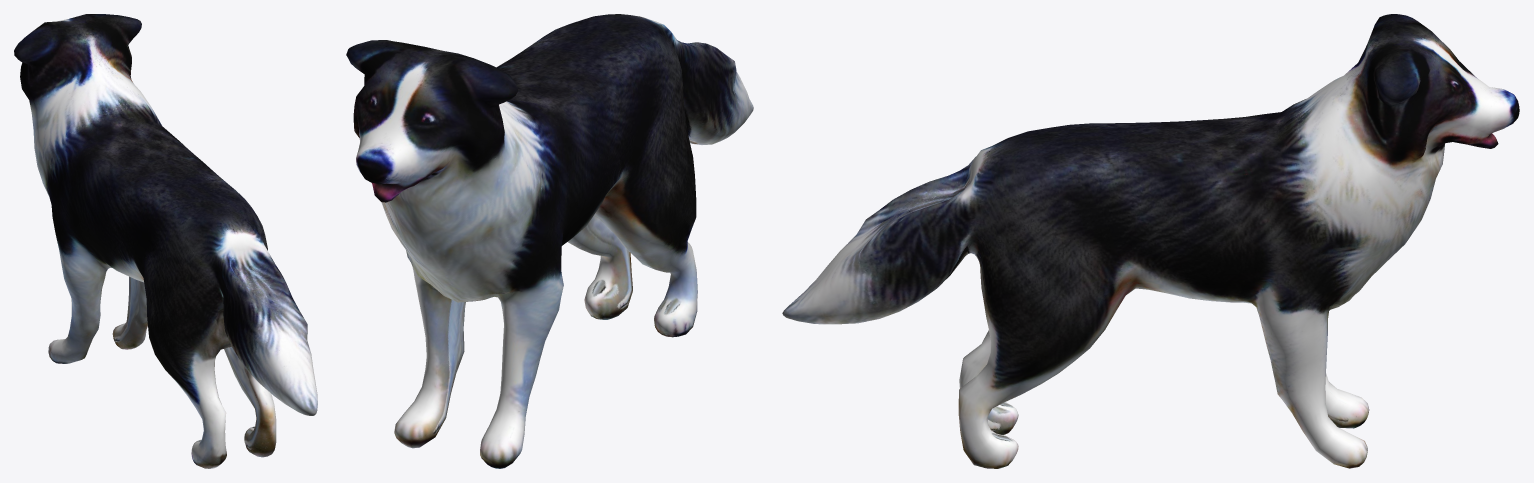
File: asset.glb
3 views of the same model, side by side, from view 1: azimuth 30°, elevation 25°; view 2: azimuth 150°, elevation 25°; view 3: azimuth 270°, elevation 25° (orthographic). The views are drawn at different scales.
Parts seen in each view (by area): view 1: base_material-material; view 2: base_material-material; view 3: base_material-material.
Boxes of the visible parts, <box> form: base_material-material: <box>14,14,317,468</box>; base_material-material: <box>346,14,753,468</box>; base_material-material: <box>782,14,1519,468</box>.
Bounding box in the file's own units: 0.254 × 0.6175 × 0.9967.
1 material, 1 textured.
